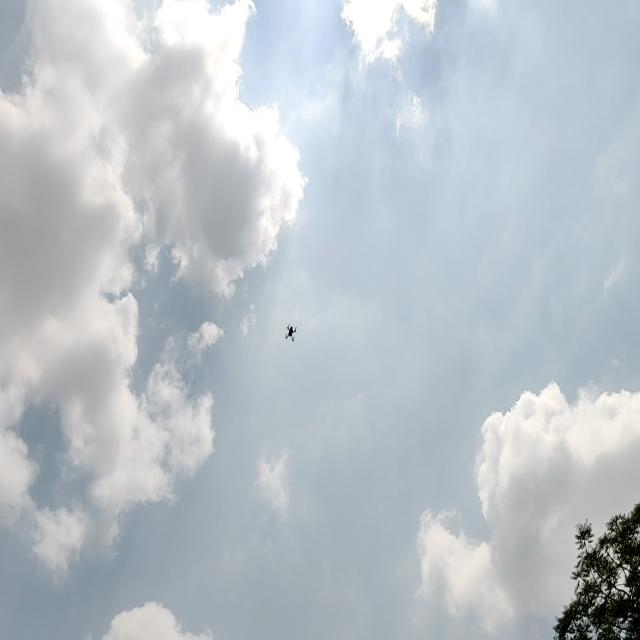drone: (282, 315, 301, 351)
